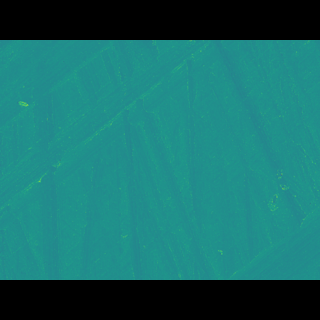Loch: (0, 70, 244, 211), (225, 196, 319, 250)
